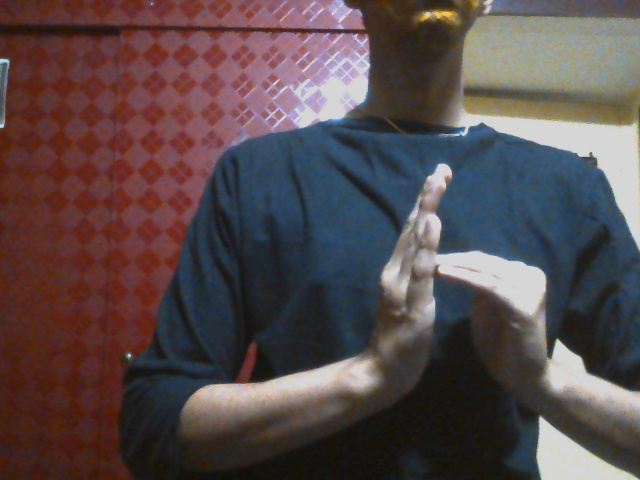Z: (328, 161, 556, 419)
